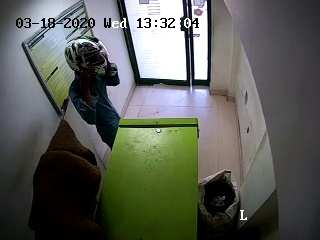helmet: (64, 35, 111, 82)
